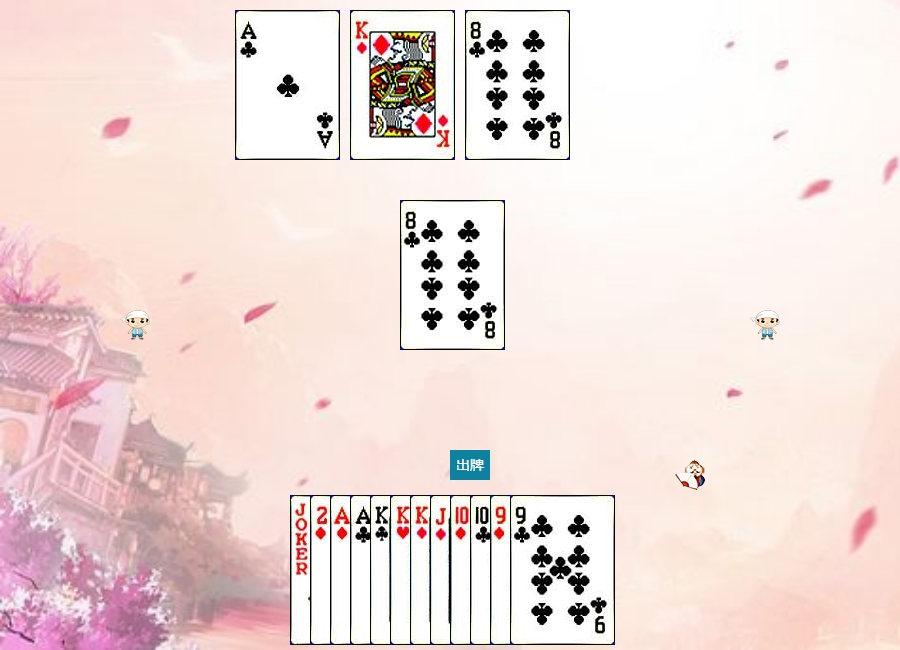10~1: (450, 495, 555, 645)
10~2: (470, 495, 575, 645)
11~1: (430, 495, 535, 645)
13~1: (350, 10, 455, 160), (410, 495, 515, 645)
13~2: (370, 495, 475, 645)
13~3: (390, 495, 495, 645)
14~1: (330, 495, 435, 645)
14~2: (235, 10, 340, 160), (350, 495, 455, 645)
15~1: (310, 495, 415, 645)
18~4: (290, 495, 395, 645)
8~2: (465, 10, 570, 160), (400, 200, 505, 350)
9~1: (490, 495, 595, 645)
9~2: (510, 495, 615, 645)
